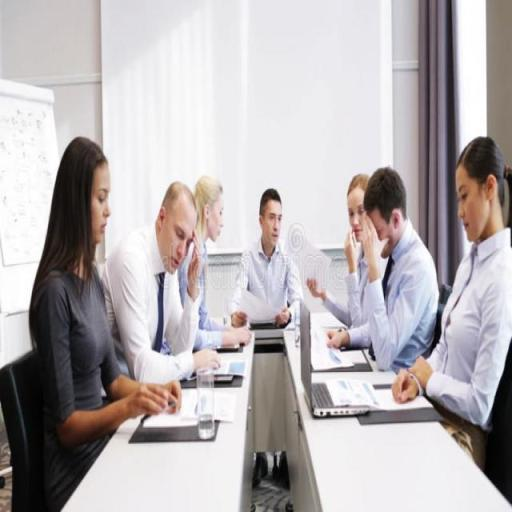Persona: (28, 136, 183, 490), (389, 134, 512, 424), (100, 176, 222, 388), (324, 168, 442, 368), (178, 176, 253, 350), (300, 173, 382, 331), (228, 186, 307, 340)
